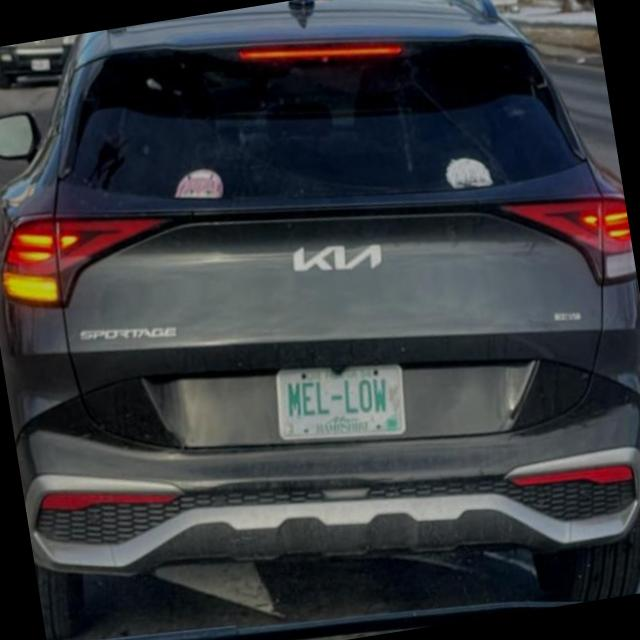LicensePlate: (274, 363, 408, 441)
